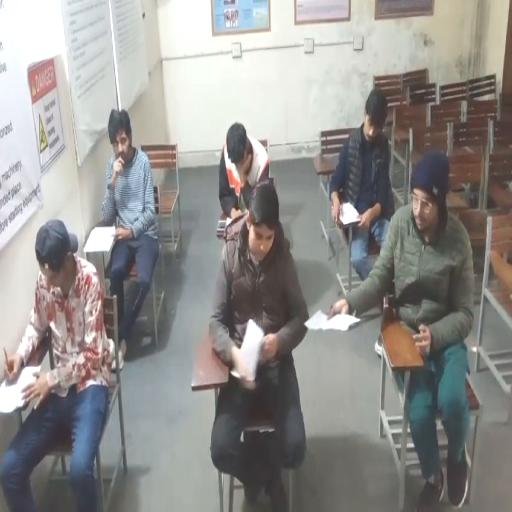paper: (0, 363, 42, 412), (239, 318, 265, 380), (305, 308, 358, 332), (87, 226, 117, 248), (338, 202, 361, 226)
